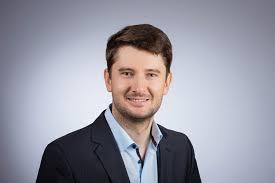person: (98, 18, 177, 123)
